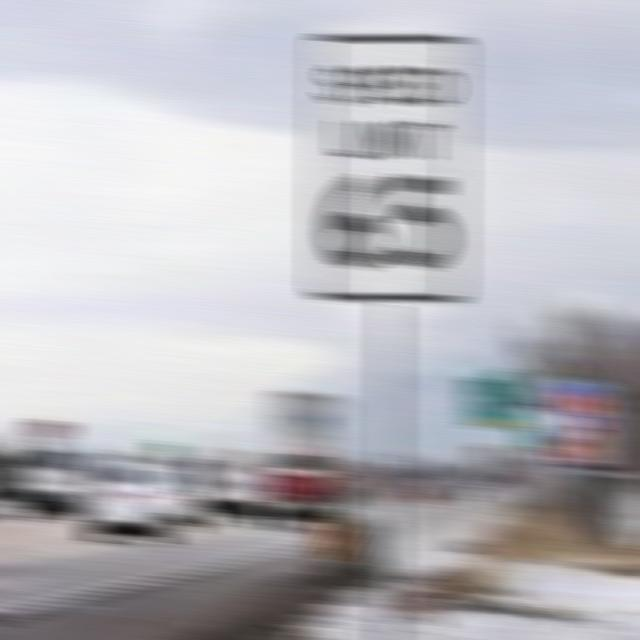speedLimit65: (306, 24, 471, 319)
